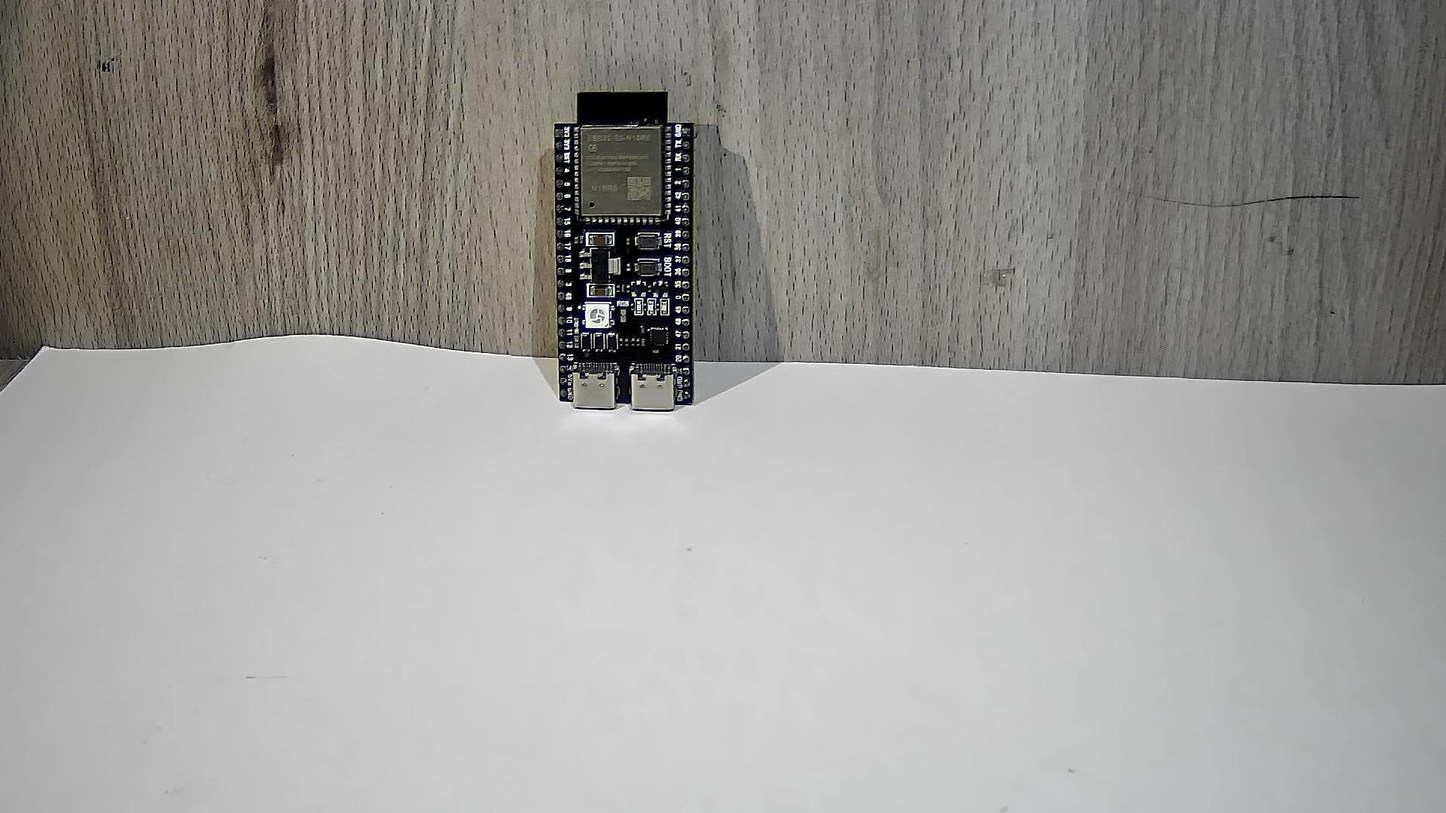ESP32: (498, 61, 761, 437)
